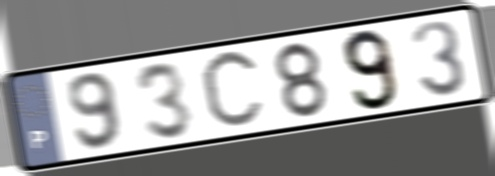3: (132, 58, 196, 143), (409, 19, 469, 100)
8: (272, 38, 332, 123)
9: (339, 27, 402, 112), (64, 69, 126, 152)
C: (197, 44, 268, 136)
